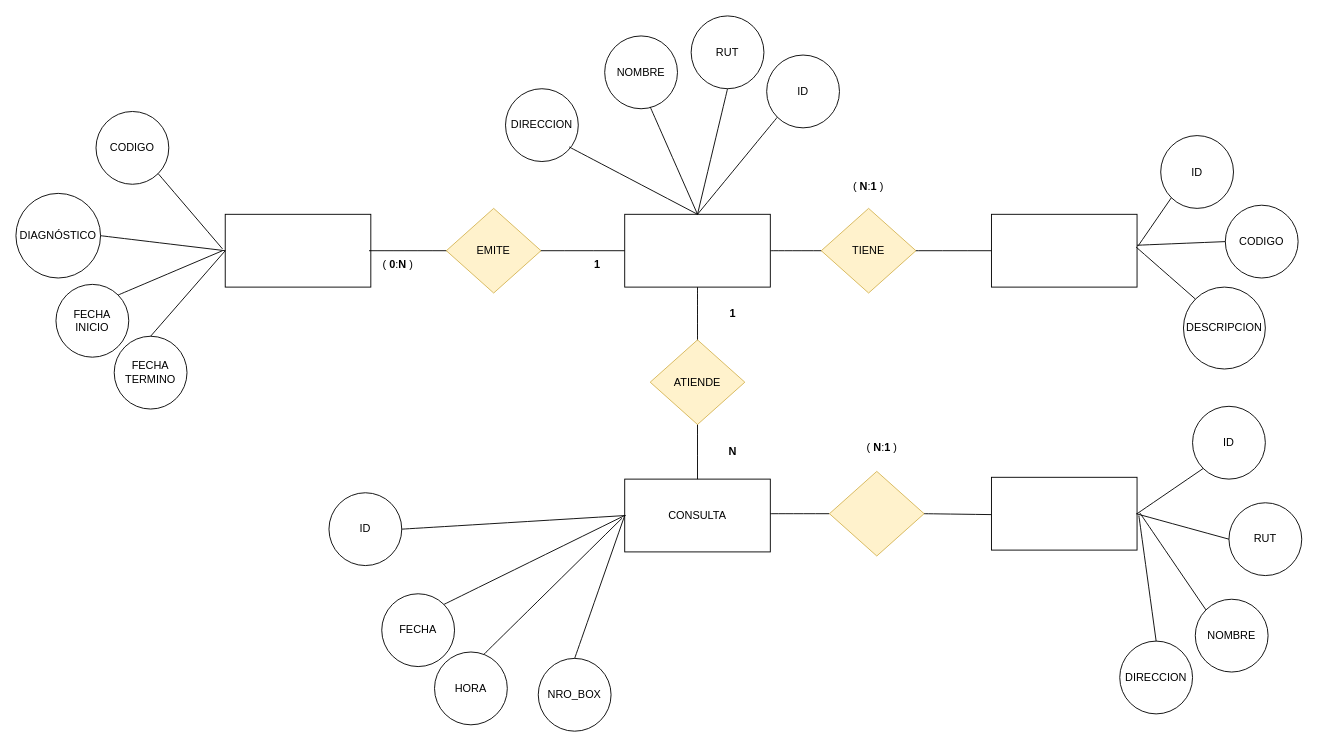
Image size: 1318x747. Some labels were removed from this diagram. The shapes that lost their labels are listed below. From the top down, each one's box as (x1, y1, x2, y2) in pixels, then its label:
(224, 213, 371, 287): LICENCIA
(624, 213, 770, 287): MEDICO
(991, 213, 1137, 287): ESPECIALIDAD
(829, 470, 924, 556): SOLICITA
(991, 476, 1137, 550): PACIENTES
